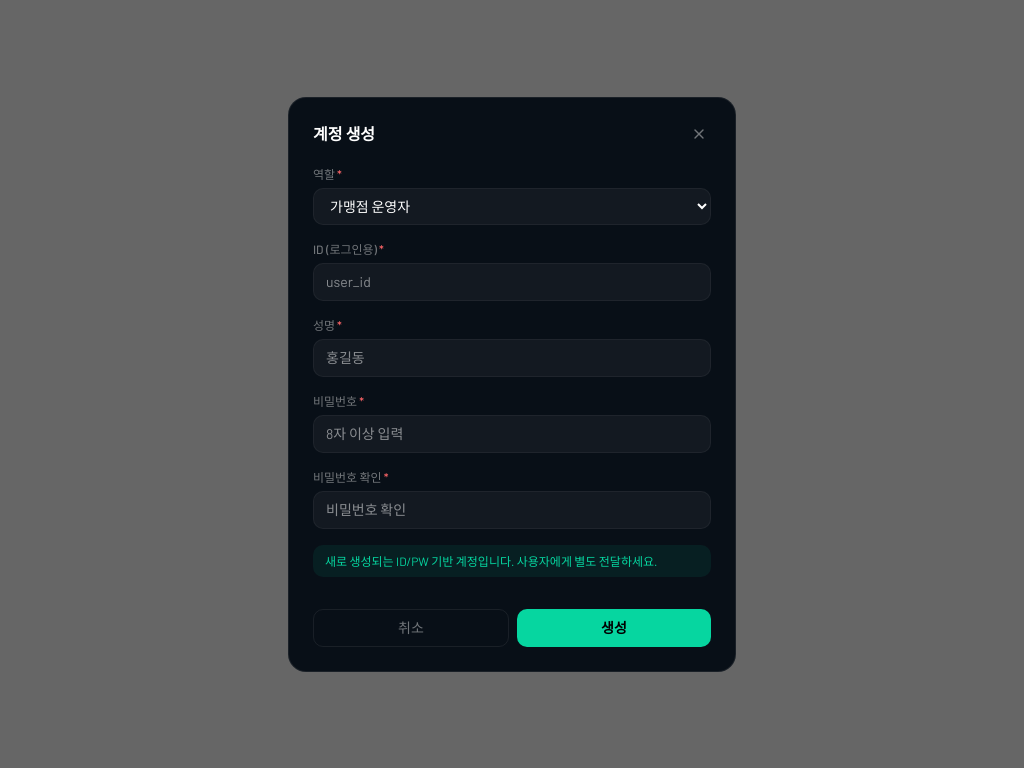
Test: CreateAccountForm › Form Validation › should validate password minimum length (8 chars)
Select "매장 관리자" in the dropdown labelled "역할*" at (512, 206), box [313,188,711,224]
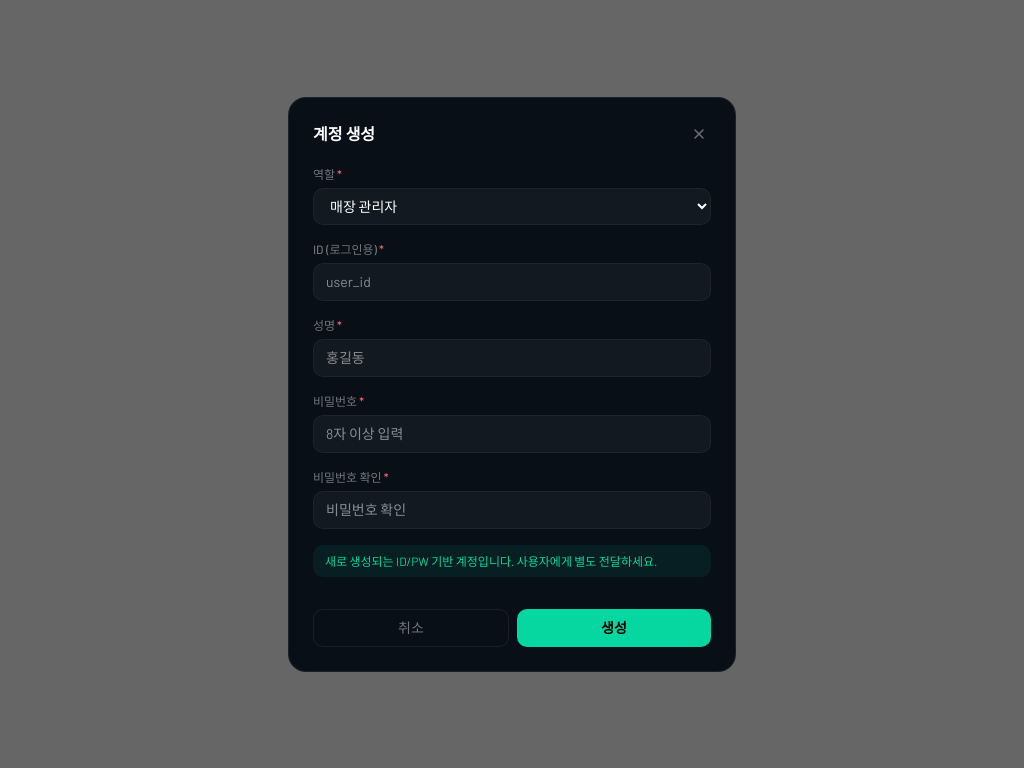
Type "short" into the password field with placeholder "8자 이상 입력" at (512, 434), box [313,414,711,452]
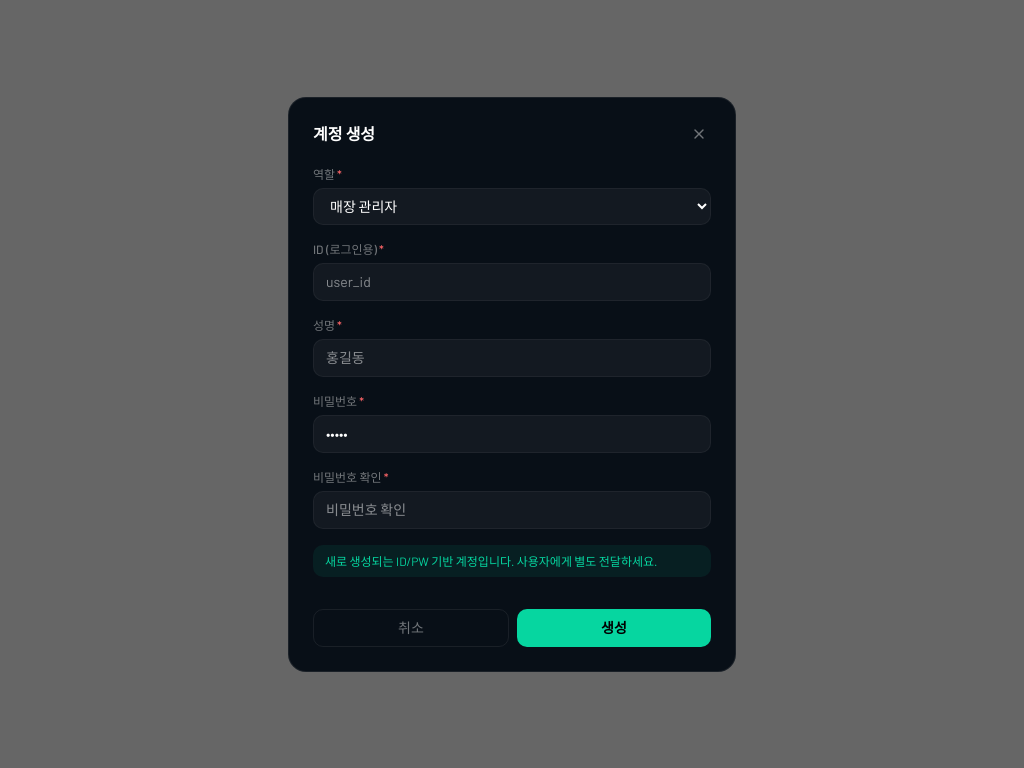
Click the button "생성" at (614, 628), box [517,608,711,646]
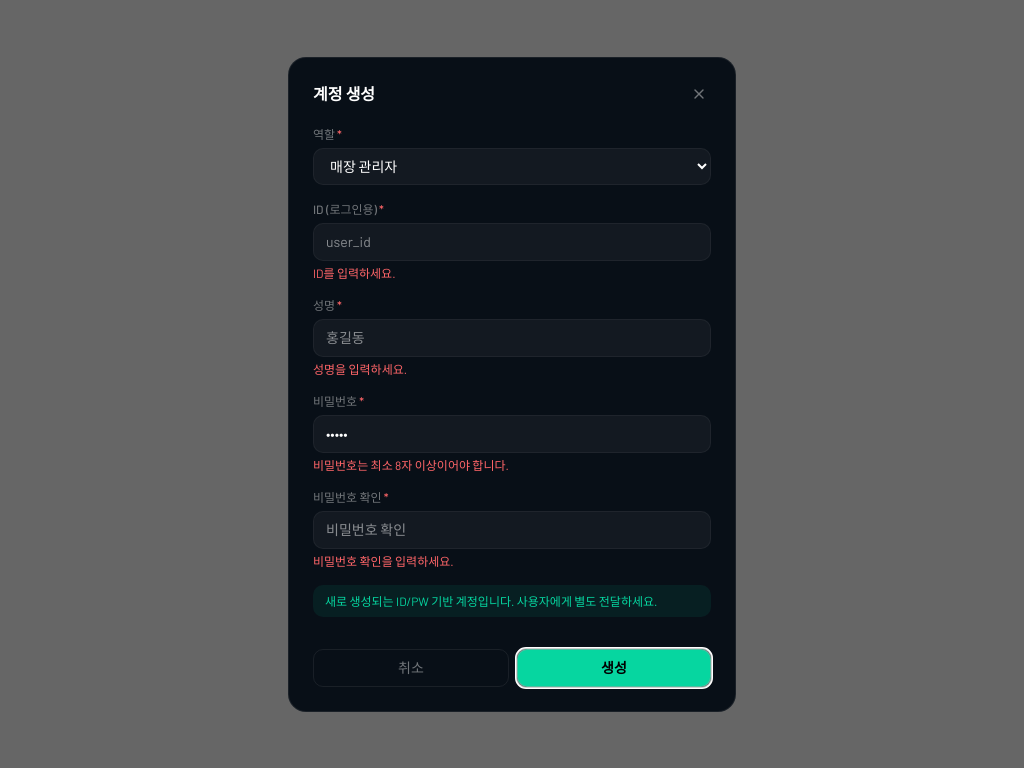
Expected: the text "비밀번호는 최소 8자 이상이어야 합니다." is shown, [313,458,509,472]
